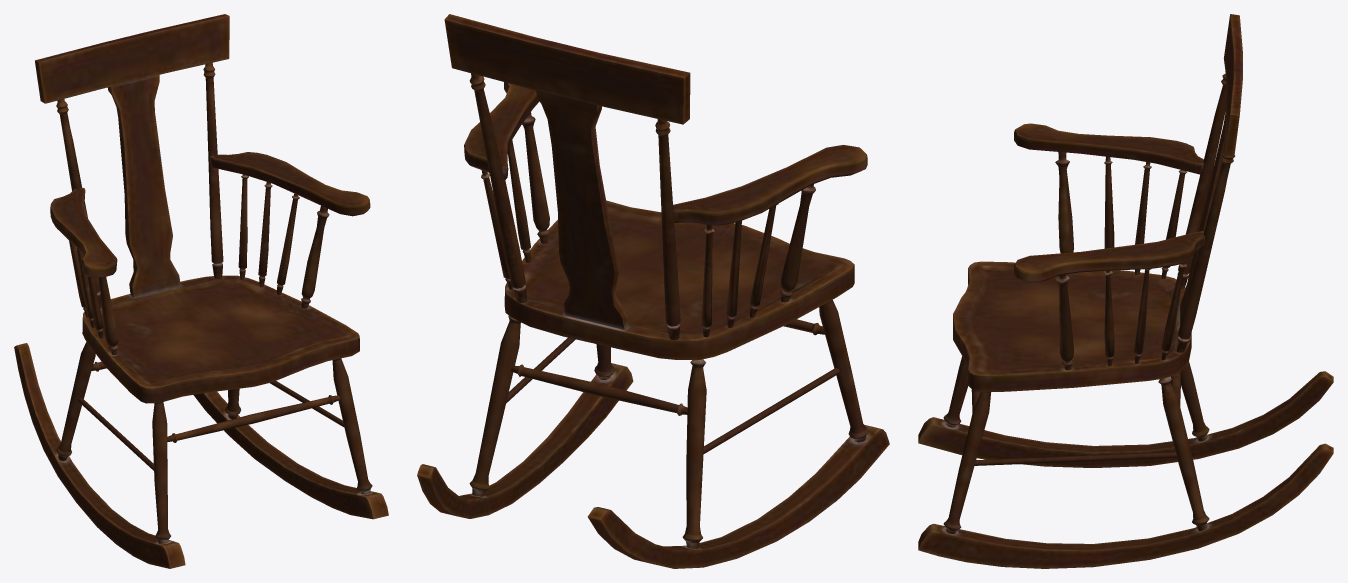
The model's file is th_schaukelstuhl.glb.
The picture shows the model from 3 angles, left to right: view 1: azimuth 30°, elevation 25°; view 2: azimuth 150°, elevation 25°; view 3: azimuth 270°, elevation 25°; orthographic projection. The views are drawn at different scales.
Parts seen in each view (by area): view 1: Rockingchair_01; view 2: Rockingchair_01; view 3: Rockingchair_01.
Boxes of the visible parts, x1,y1,x2,y2 form: Rockingchair_01: (14,14,388,568); Rockingchair_01: (417,14,889,568); Rockingchair_01: (918,14,1333,568).
Bounding box in the file's own units: 0.7081 × 0.9949 × 0.8335.
1 material, 1 textured.
